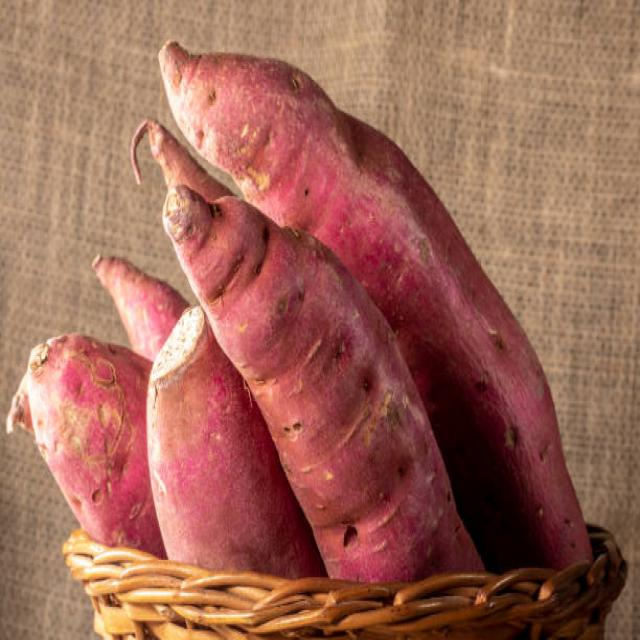Sweet Potato: (158, 30, 596, 568), (148, 304, 298, 570), (26, 331, 151, 545)
